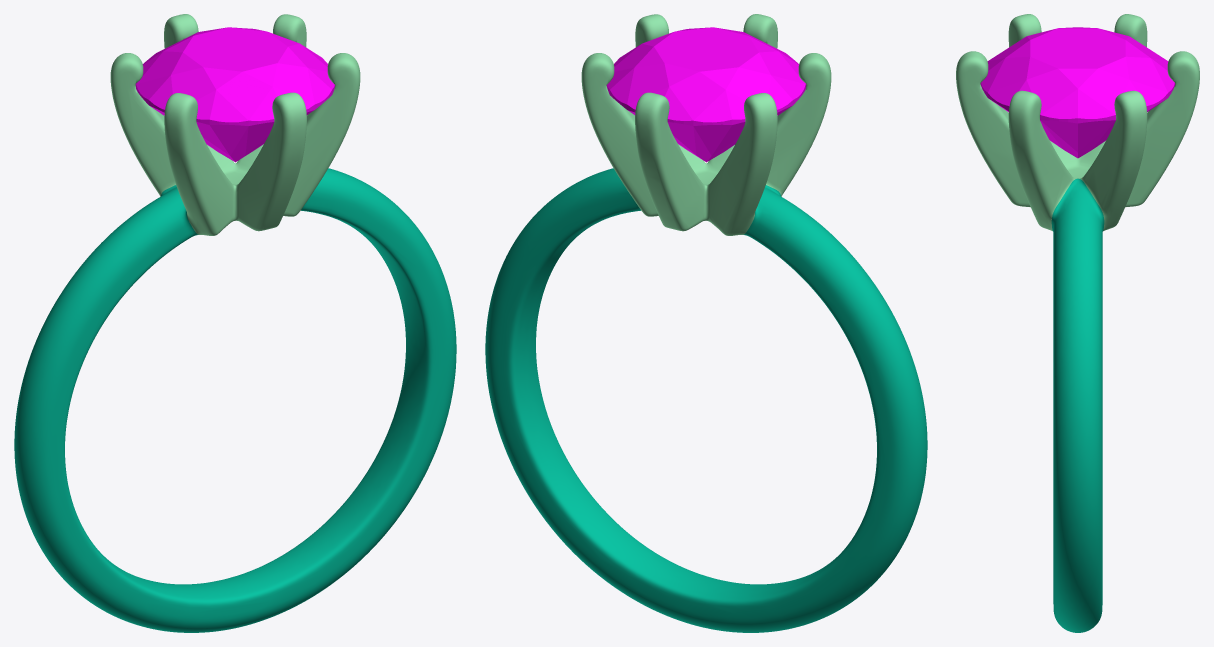
The model's file is BE10126_RD_200ct_RENDER.glb.
3 views of the same model, side by side, from view 1: azimuth 30°, elevation 25°; view 2: azimuth 150°, elevation 25°; view 3: azimuth 270°, elevation 25° (orthographic). The views are drawn at different scales.
Parts seen in each view (by area): view 1: Metal 01, Metal 02, CS_Diamond_Round; view 2: Metal 01, Metal 02, CS_Diamond_Round; view 3: Metal 01, Metal 02, CS_Diamond_Round.
Boxes of the visible parts, <box> form: Metal 01: <box>14,168,456,632</box>; Metal 02: <box>110,14,360,235</box>; CS_Diamond_Round: <box>135,27,335,162</box>; Metal 01: <box>485,168,927,632</box>; Metal 02: <box>581,14,831,235</box>; CS_Diamond_Round: <box>606,27,806,162</box>; Metal 01: <box>1051,178,1104,632</box>; Metal 02: <box>956,14,1199,231</box>; CS_Diamond_Round: <box>980,27,1175,158</box>.
Bounding box in the file's own units: 20.09 × 25.39 × 9.99.
